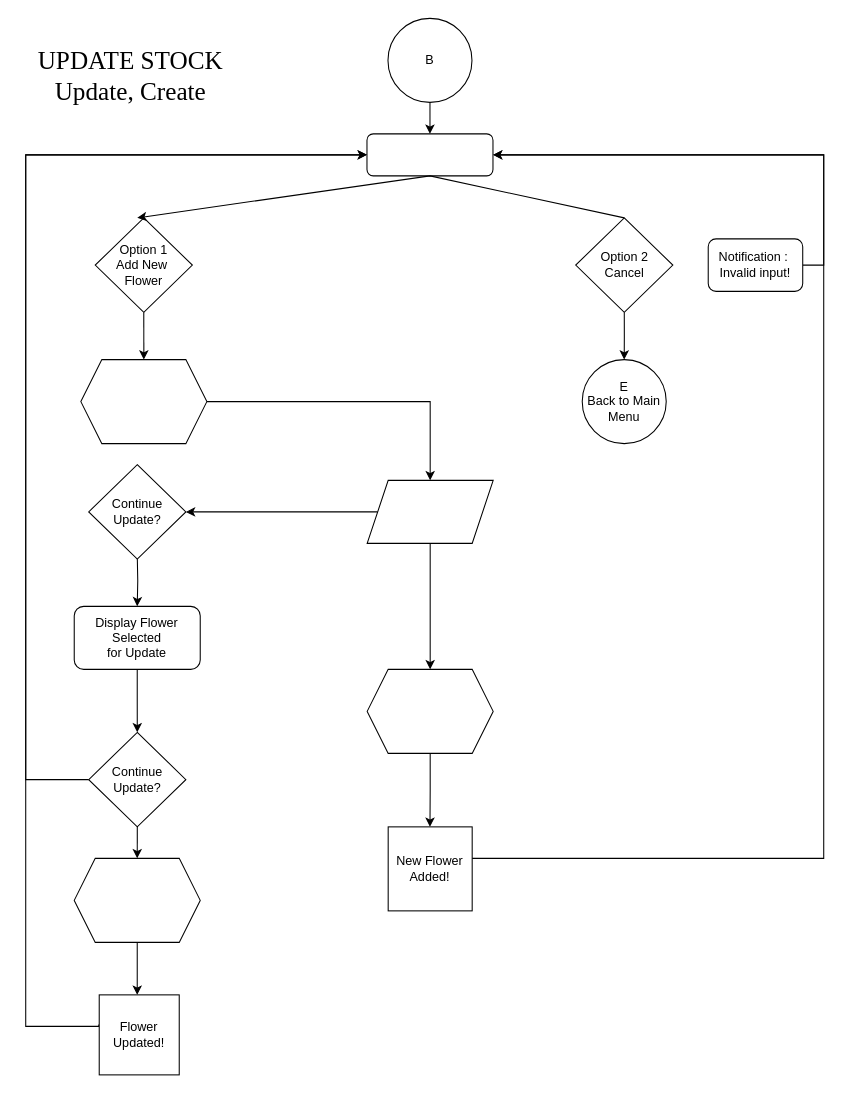
Some shapes in this 850 by 1094 pixel diagram are drawn without their labels. Each missing label, with the centre of its shape:
Does Data Already Exists?: the point at 429,511
Option 2 Menu: the point at 429,154
User Continue Input New Flower/leaves: the point at 429,710
User Input New Flower/leaves: the point at 143,401
User Input Update Data: the point at 136,899
